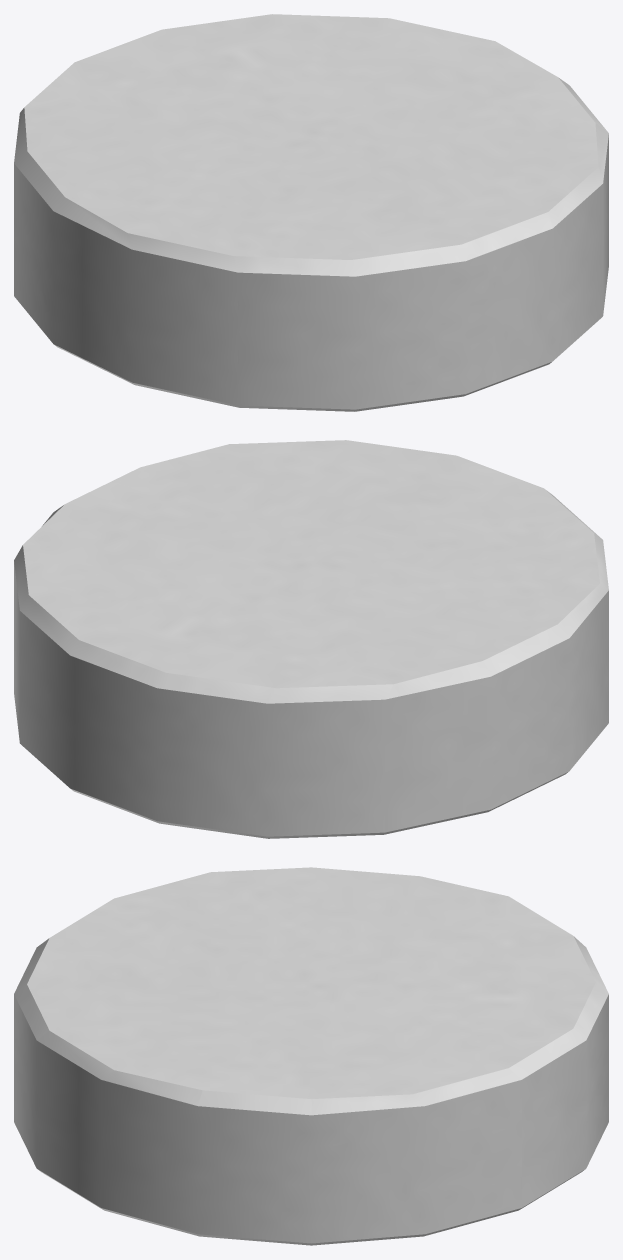
Rendered from SM_溴甲酚绿盖子_002.fbx.
3 views of the same model, one above another, from view 1: azimuth 30°, elevation 25°; view 2: azimuth 150°, elevation 25°; view 3: azimuth 270°, elevation 25° (orthographic). The views are drawn at different scales.
Parts seen in each view (by area): view 1: SM_溴甲酚绿盖子_002; view 2: SM_溴甲酚绿盖子_002; view 3: SM_溴甲酚绿盖子_002.
Boxes of the visible parts, x1,y1,x2,y2 form: SM_溴甲酚绿盖子_002: [14, 14, 608, 411]; SM_溴甲酚绿盖子_002: [14, 440, 608, 838]; SM_溴甲酚绿盖子_002: [14, 867, 608, 1245].
Size of the model in its own units: 0.0773 by 0.0212 by 0.0801.
